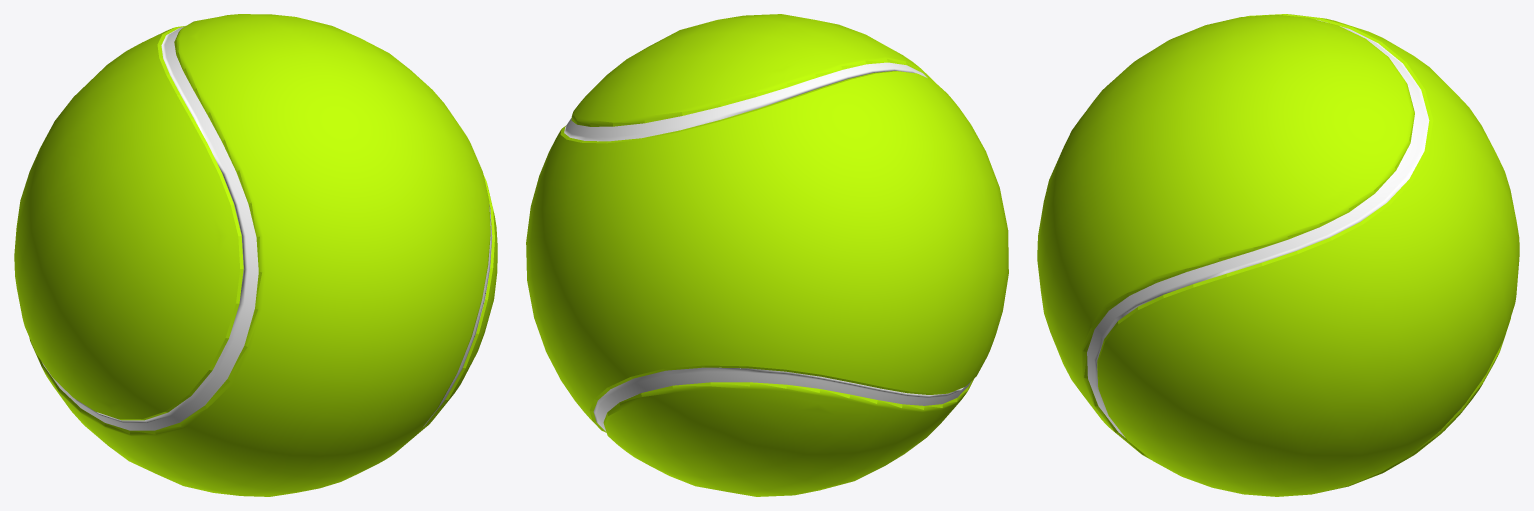
File: TennisBall.fbx
3 renders of one model, left to right at view 1: azimuth 30°, elevation 25°; view 2: azimuth 150°, elevation 25°; view 3: azimuth 270°, elevation 25°, orthographic.
Visible parts, largest first — view 1: Ball; view 2: Ball; view 3: Ball.
Boxes of the visible parts, x1=… form: Ball: x1=14, y1=14, x2=497, y2=496; Ball: x1=526, y1=14, x2=1008, y2=496; Ball: x1=1037, y1=14, x2=1519, y2=496.
Size of the model in its own units: 84.05 by 84.35 by 84.29.
